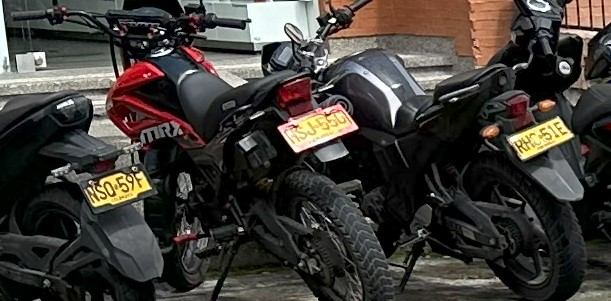number plate: (277, 104, 357, 152), (81, 164, 155, 213), (507, 116, 573, 160)
